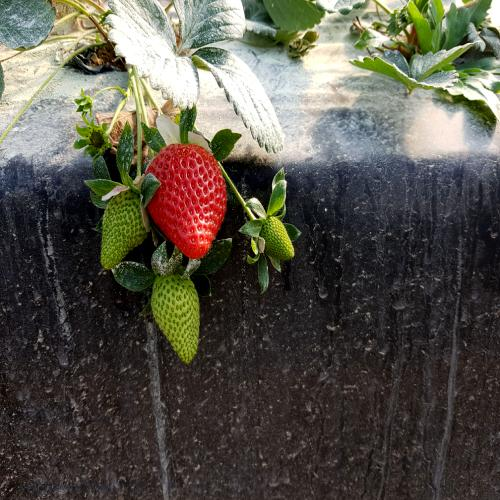ripe: (148, 126, 231, 277)
